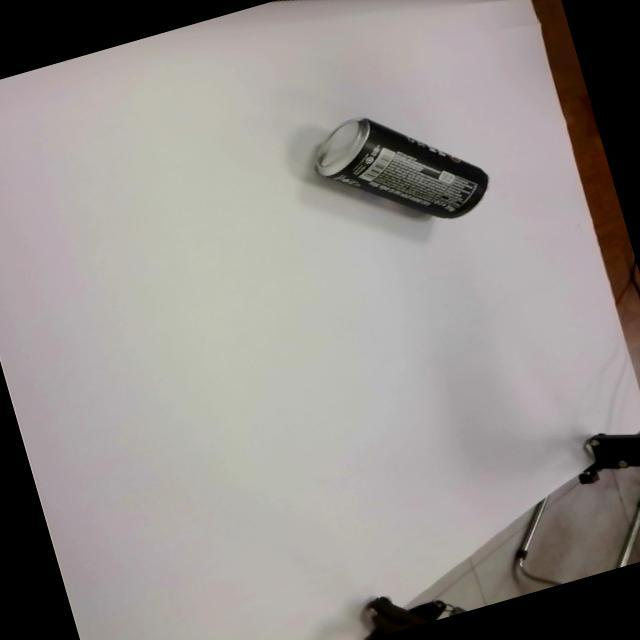debris: (304, 87, 496, 251)
